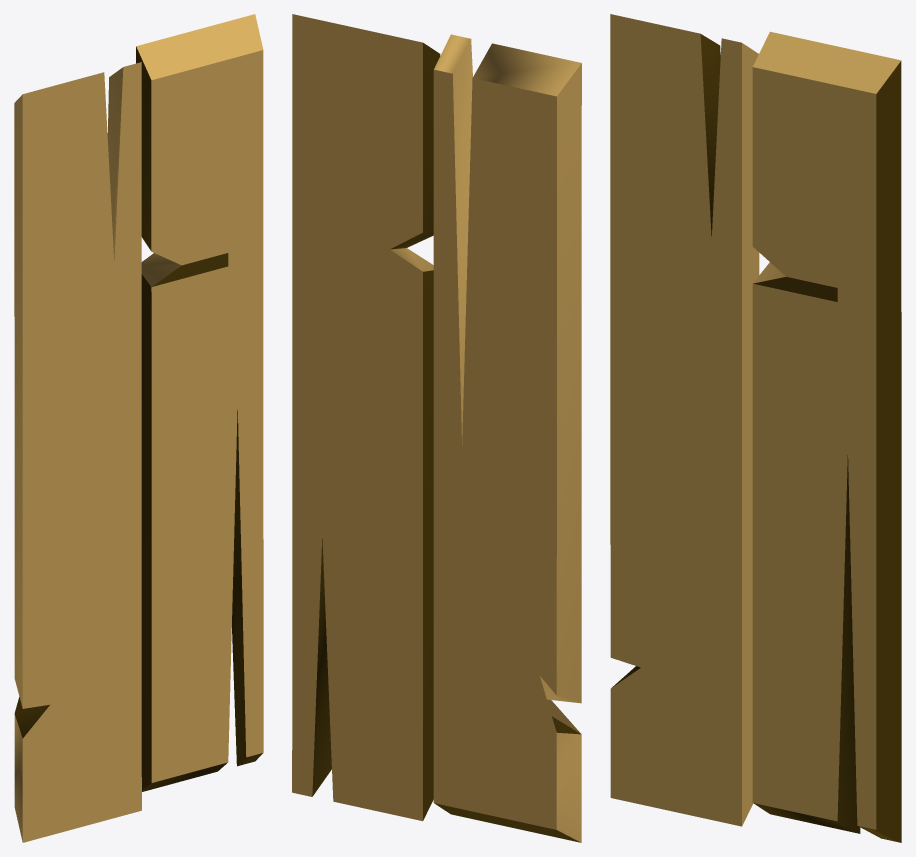
File: shackfront2.fbx
3 views of the same model, side by side, from view 1: azimuth 30°, elevation 25°; view 2: azimuth 150°, elevation 25°; view 3: azimuth 330°, elevation 25° (orthographic). The views are drawn at different scales.
Visible parts, largest first — view 1: shackfront2; view 2: shackfront2; view 3: shackfront2.
Boxes of the visible parts, x1,y1,x2,y2 form: shackfront2: (14,14,263,842); shackfront2: (292,14,581,842); shackfront2: (610,14,901,842).
Bounding box in the file's own units: 16.21 × 45.49 × 2.5.
